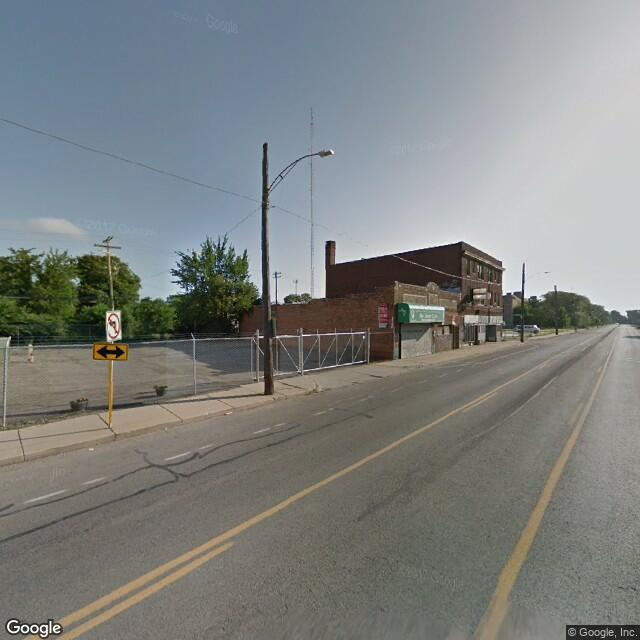litter: (88, 446, 95, 450), (222, 409, 232, 411)
